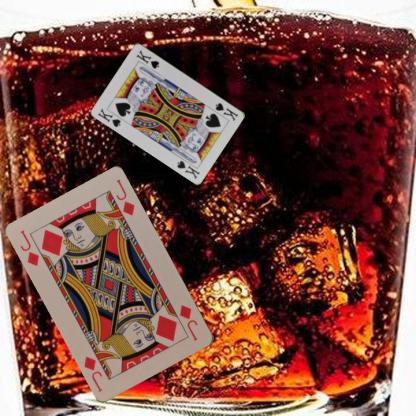Jd: (18, 228, 41, 268), (177, 302, 199, 343)
Ks: (213, 100, 239, 122), (96, 106, 122, 128)
